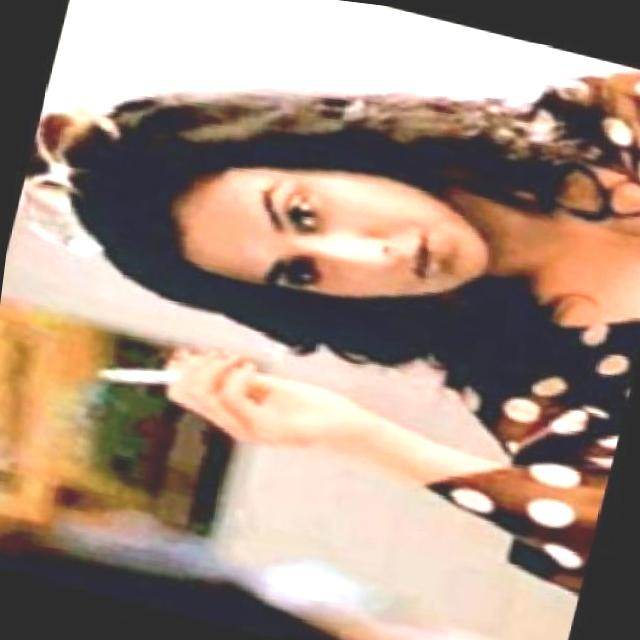smoke: (85, 331, 326, 456)
